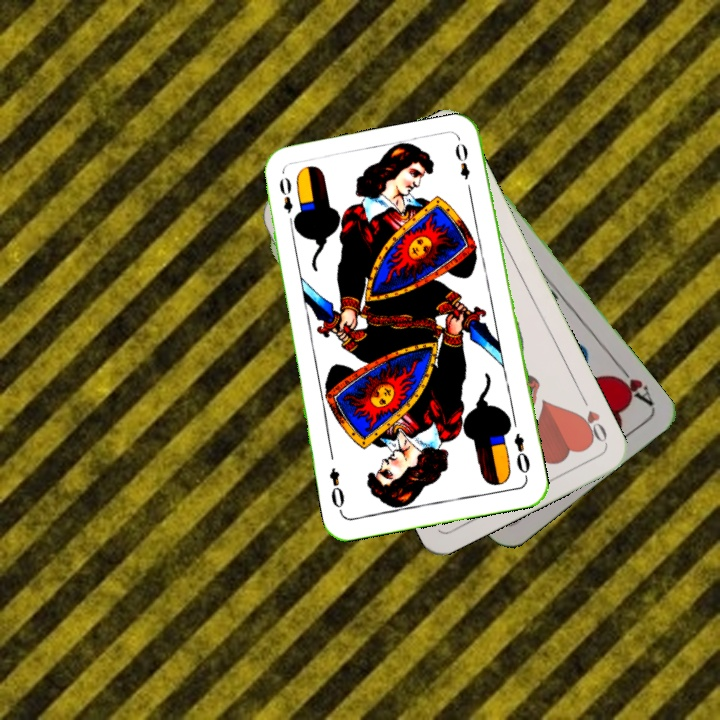EO: (275, 173, 301, 230), (509, 429, 533, 481)
HA: (608, 359, 657, 409)
HO: (573, 391, 610, 446)
